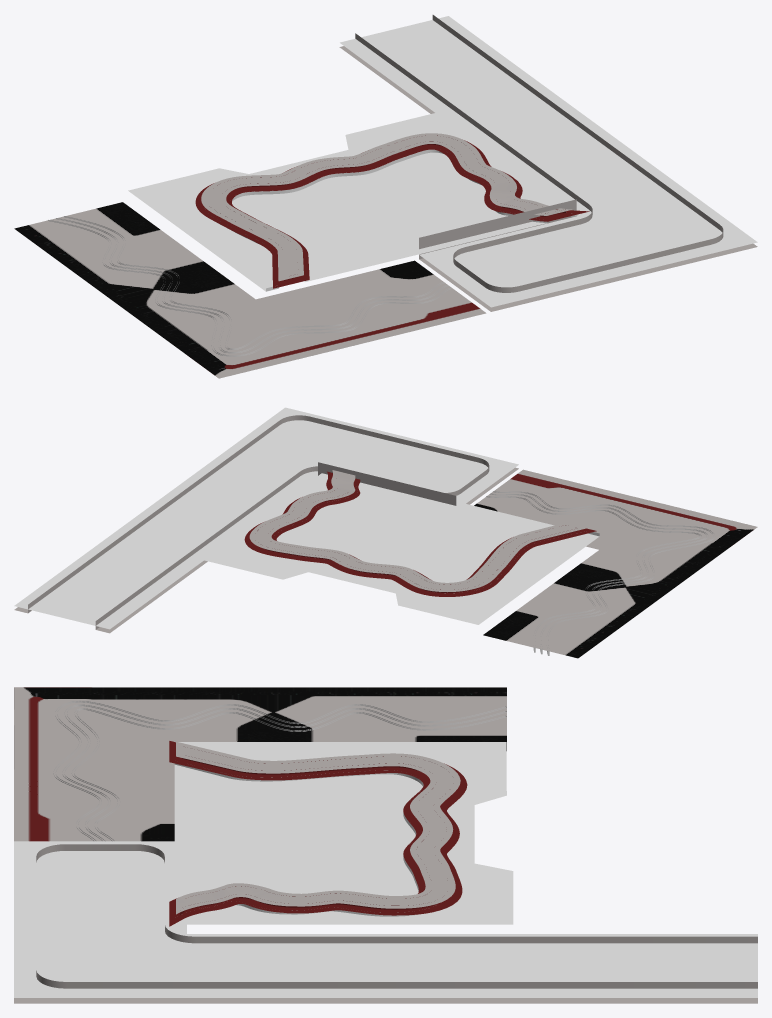
File: 天花板改2U.fbx
3 views of the same model, one above another, from view 1: azimuth 30°, elevation 25°; view 2: azimuth 150°, elevation 25°; view 3: azimuth 270°, elevation 25° (orthographic). The views are drawn at different scales.
Visible parts, largest first — view 1: Line4221, Line4247, Line4244, Line4218, Shape009, Shape008, 天花光带; view 2: Line4221, Line4247, Line4244, Line4218, Shape009, Shape008, 天花光带; view 3: Line4221, Line4247, Line4244, Line4218, Shape009, Shape008, 天花光带.
Boxes of the visible parts, left/top/right/bottom form: Line4221: left=340, top=16, right=757, bottom=307; Line4247: left=14, top=202, right=486, bottom=378; Line4244: left=128, top=112, right=577, bottom=291; Line4218: left=339, top=15, right=757, bottom=311; Shape009: left=201, top=133, right=572, bottom=281; Shape008: left=195, top=135, right=589, bottom=288; 天花光带: left=47, top=216, right=452, bottom=356; Line4221: left=14, top=407, right=518, bottom=629; Line4247: left=474, top=469, right=757, bottom=658; Line4244: left=203, top=473, right=599, bottom=624; Line4218: left=14, top=415, right=518, bottom=633; Shape009: left=249, top=470, right=586, bottom=592; Shape008: left=244, top=471, right=596, bottom=596; 天花光带: left=486, top=491, right=715, bottom=655; Line4221: left=14, top=841, right=757, bottom=997; Line4247: left=14, top=687, right=506, bottom=841; Line4244: left=174, top=742, right=513, bottom=924; Line4218: left=14, top=844, right=757, bottom=1003; Shape009: left=176, top=741, right=460, bottom=914; Shape008: left=169, top=741, right=467, bottom=926; 天花光带: left=53, top=701, right=506, bottom=841.
Bounding box in the file's own units: 83.84 × 4.07 × 83.34.
